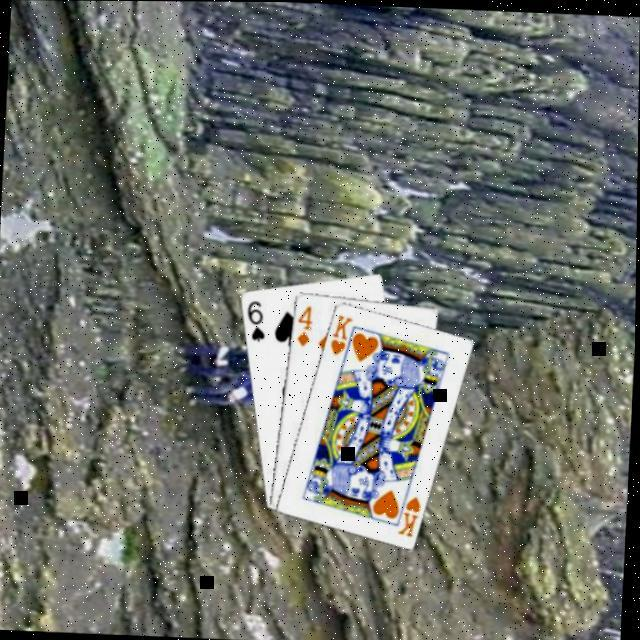4D: (296, 299, 319, 346)
6S: (245, 293, 272, 342)
KH: (397, 489, 427, 536), (329, 308, 358, 355)
